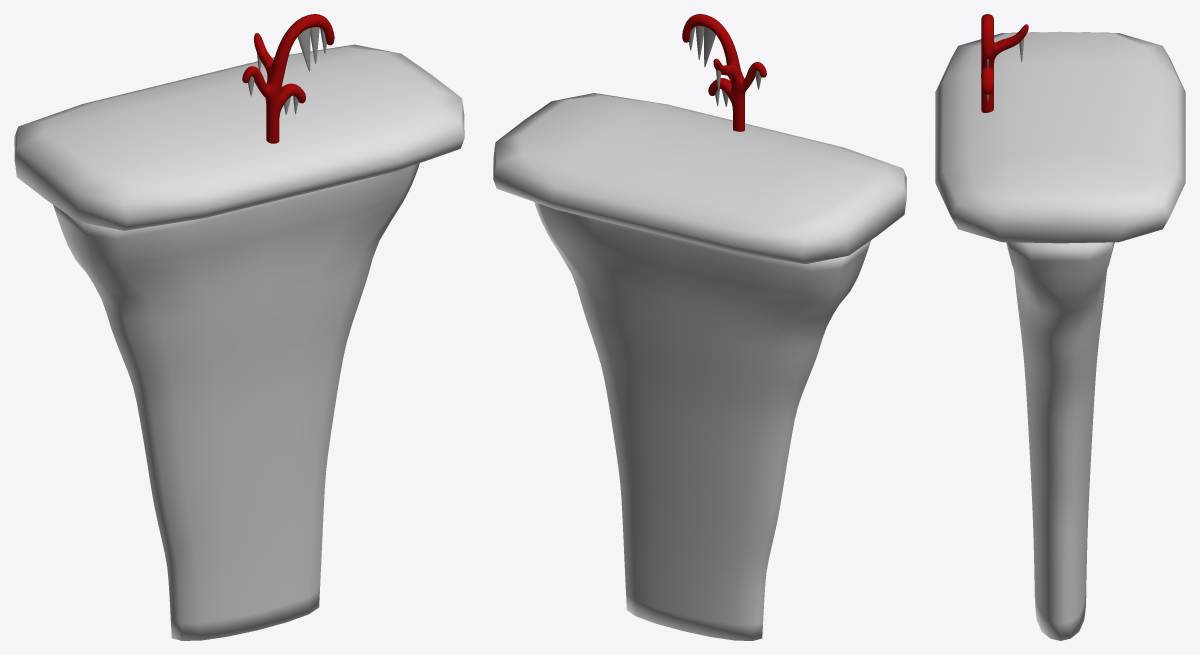
The model's file is after-explosure-up.obj.
3 renders of one model, left to right at view 1: azimuth 30°, elevation 25°; view 2: azimuth 150°, elevation 25°; view 3: azimuth 270°, elevation 25°, orthographic. The views are drawn at different scales.
Parts seen in each view (by area): view 1: OverGround.032_Cube.1162, OverGround.038_Cube.1164, Tree.023_Cube.1151; view 2: OverGround.032_Cube.1162, OverGround.038_Cube.1164, Tree.023_Cube.1151; view 3: OverGround.038_Cube.1164, OverGround.032_Cube.1162, Tree.023_Cube.1151.
Boxes of the visible parts, bbox=[...] form: OverGround.032_Cube.1162: bbox=[53, 163, 419, 640]; OverGround.038_Cube.1164: bbox=[14, 44, 464, 230]; Tree.023_Cube.1151: bbox=[242, 14, 334, 143]; OverGround.032_Cube.1162: bbox=[534, 202, 871, 640]; OverGround.038_Cube.1164: bbox=[493, 93, 906, 263]; Tree.023_Cube.1151: bbox=[682, 14, 766, 131]; OverGround.038_Cube.1164: bbox=[935, 31, 1185, 243]; OverGround.032_Cube.1162: bbox=[1006, 242, 1114, 640]; Tree.023_Cube.1151: bbox=[981, 14, 1028, 112].
Size of the model in its own units: 6.4 by 9.95 by 3.75.
